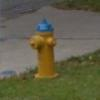a fire hydrant: (28, 16, 60, 82)
